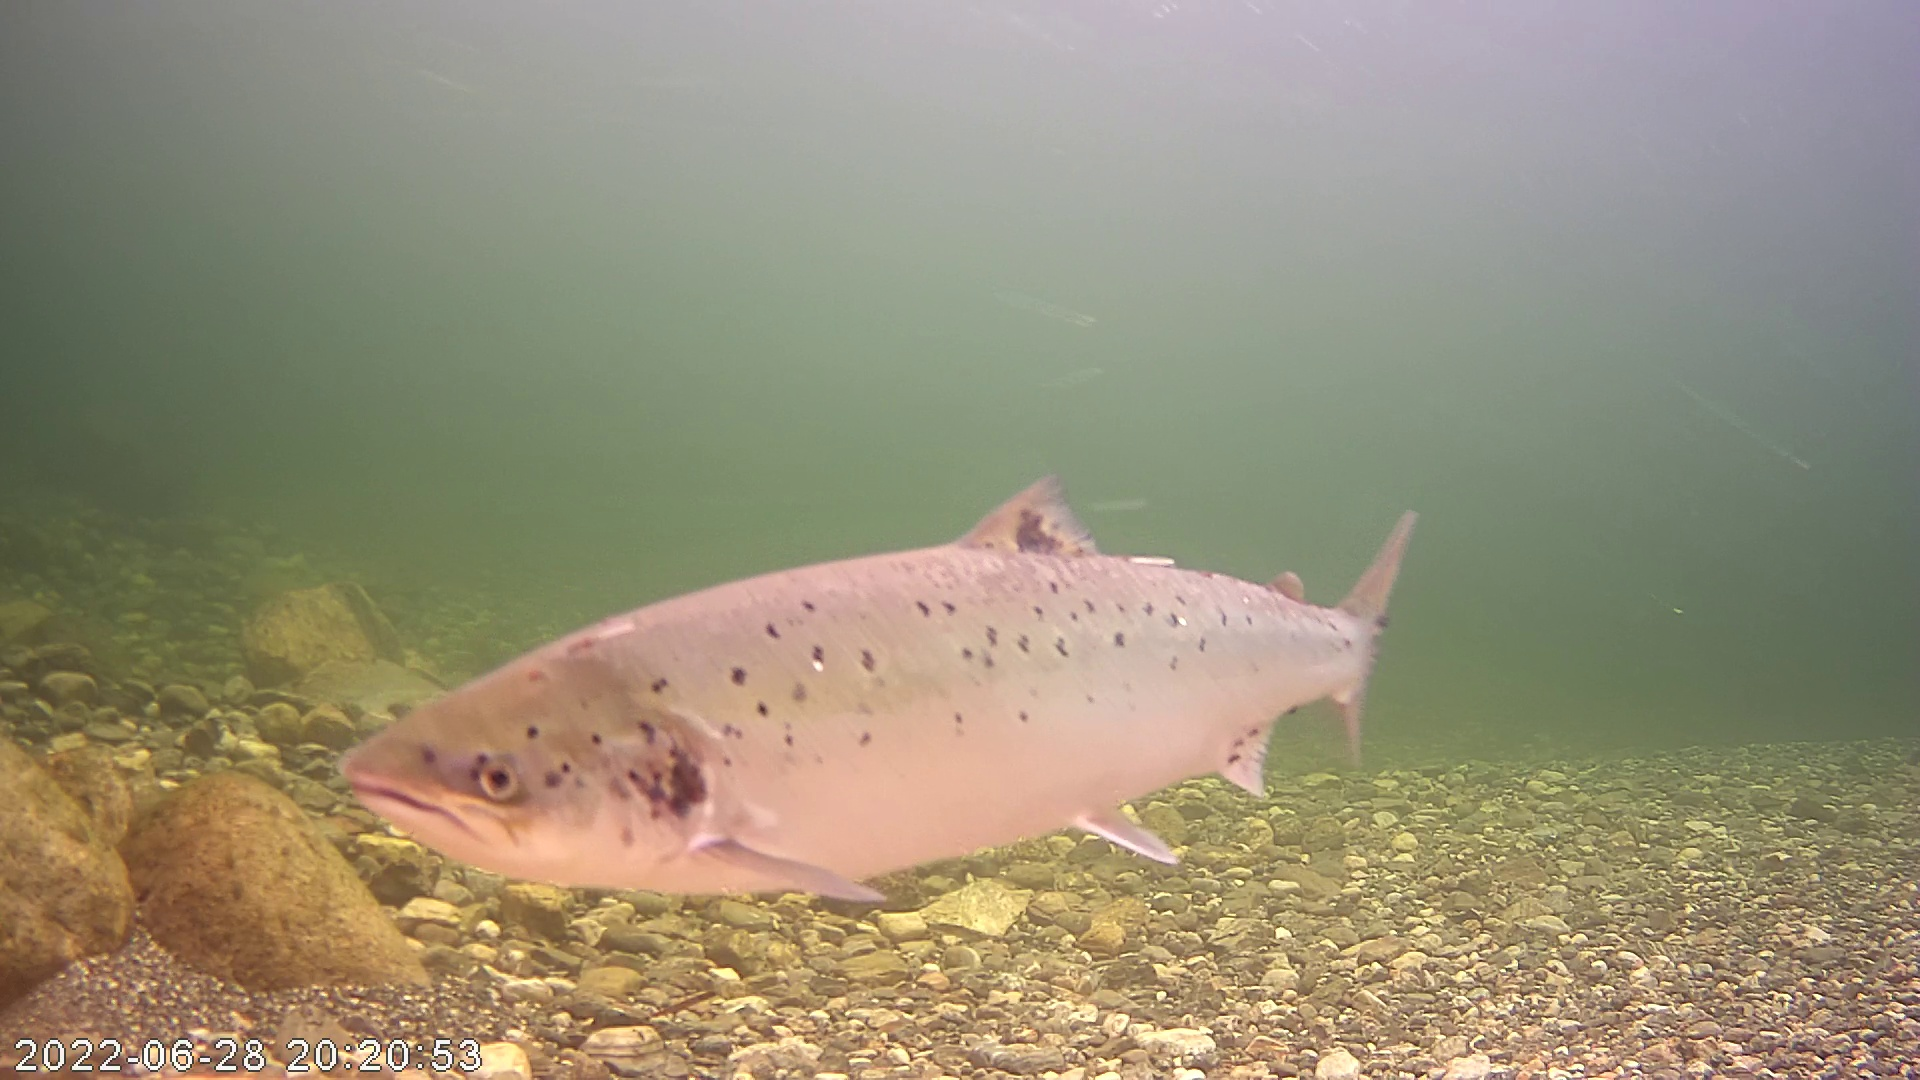salmon: (345, 414, 1418, 918)
